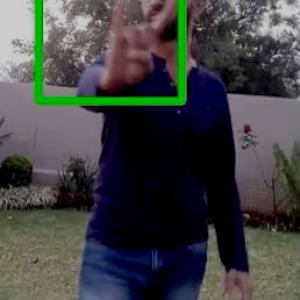takeoff-hand: (99, 0, 184, 86)
